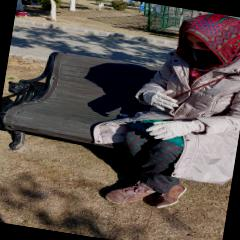gloved: (146, 116, 195, 144), (141, 85, 180, 113)
